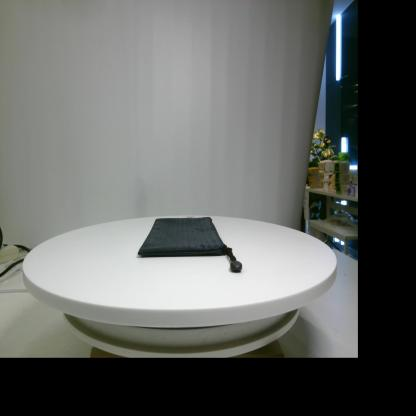Stationery: (138, 217, 242, 272)
